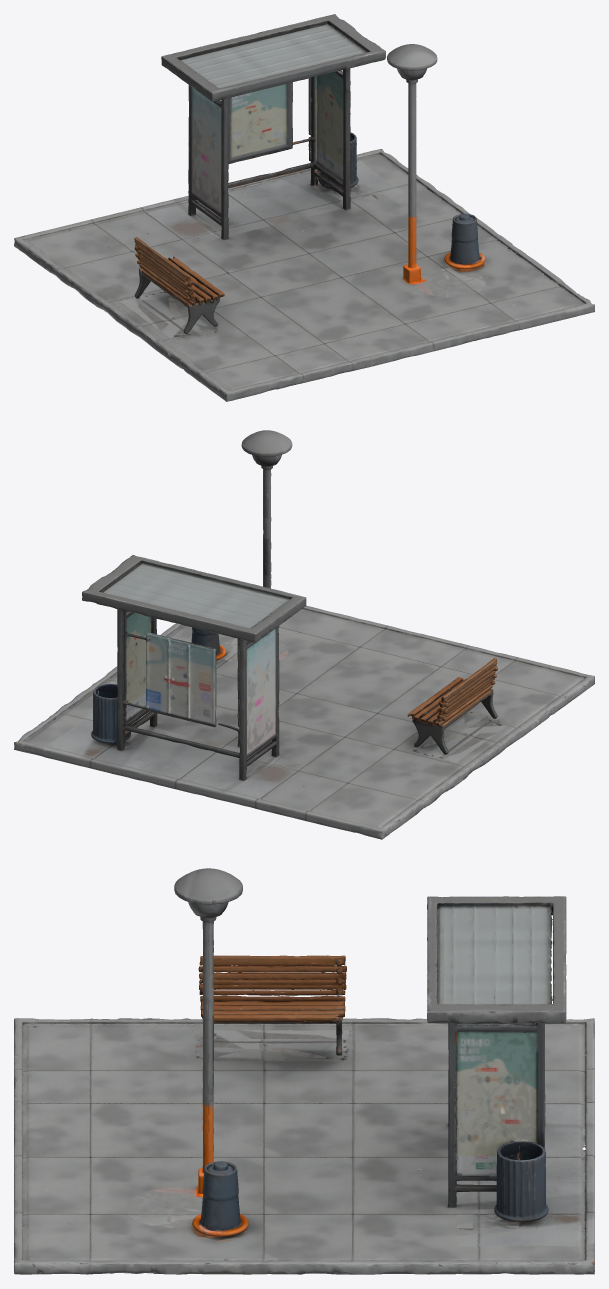
Rendered from sport.glb.
3 renders of one model, top to bottom at view 1: azimuth 30°, elevation 25°; view 2: azimuth 150°, elevation 25°; view 3: azimuth 270°, elevation 25°, orthographic. The views are drawn at different scales.
Bounding box in the file's own units: 62392 × 38893 × 62392.
Materials: 1 (1 with a texture image).
